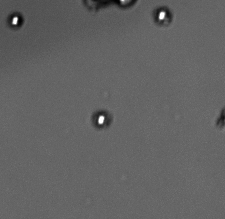Dead Cell: (81, 1, 113, 12)
Living Cell: (90, 108, 113, 131), (153, 5, 174, 25), (6, 11, 25, 30), (112, 1, 141, 11)
